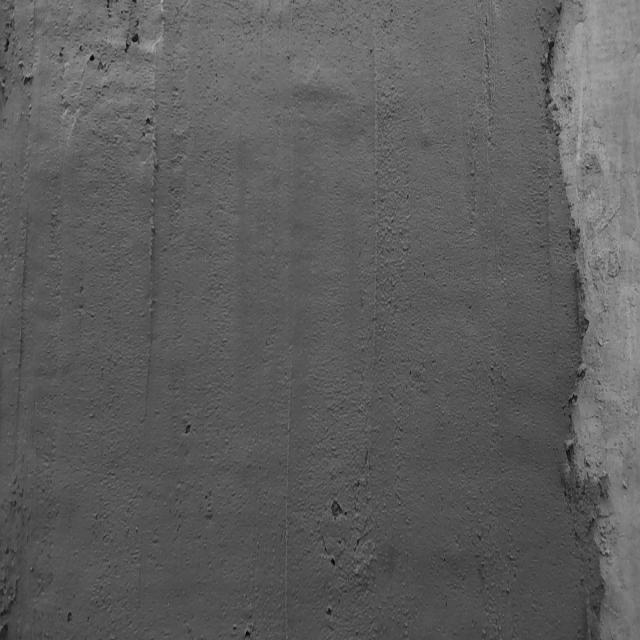trowels marks: (135, 30, 167, 425), (362, 5, 386, 428), (280, 342, 300, 640), (473, 5, 499, 152)
